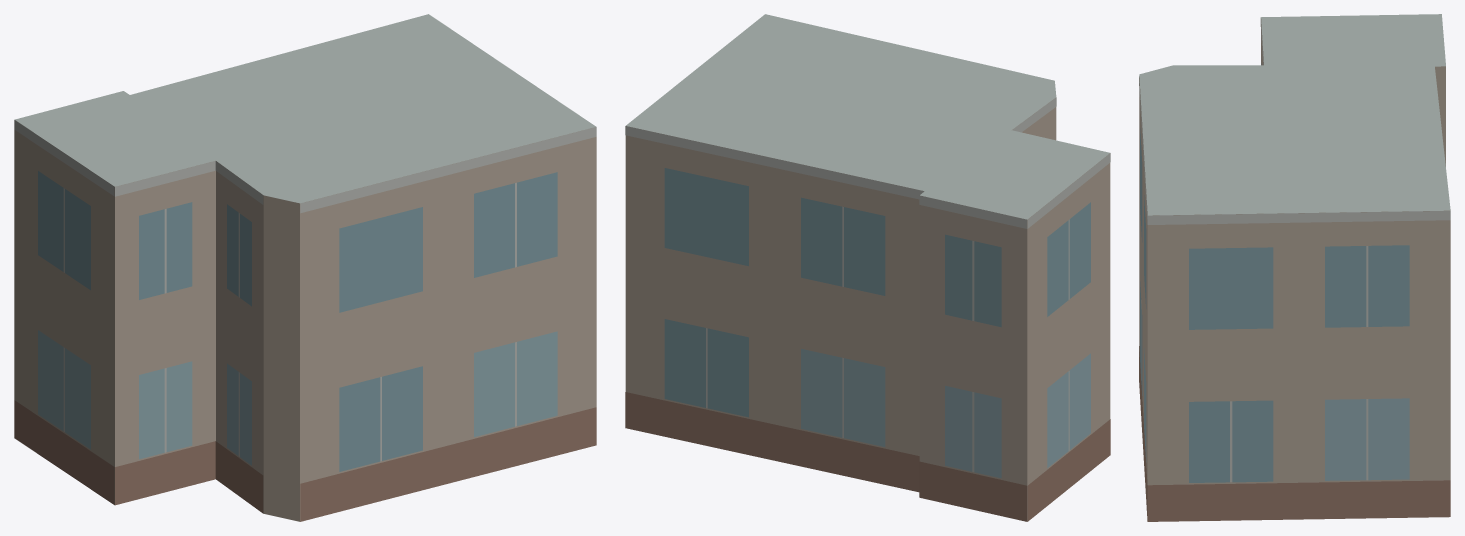
Rendered from survey-upis-32850805.glb.
3 views of the same model, side by side, from view 1: azimuth 30°, elevation 25°; view 2: azimuth 150°, elevation 25°; view 3: azimuth 270°, elevation 25° (orthographic). The views are drawn at different scales.
Visible parts, largest first — view 1: survey-upis-32850805.tmp; view 2: survey-upis-32850805.tmp; view 3: survey-upis-32850805.tmp.
Boxes of the visible parts, x1,y1,x2,y2 form: survey-upis-32850805.tmp: (14, 14, 596, 521); survey-upis-32850805.tmp: (625, 14, 1110, 521); survey-upis-32850805.tmp: (1139, 14, 1450, 521).
Size of the model in its own units: 11.01 by 7.8 by 7.2.
